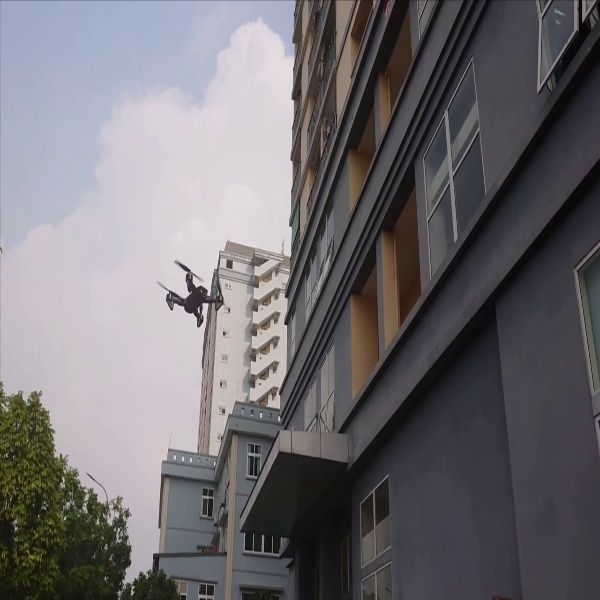drone: (143, 249, 229, 335)
